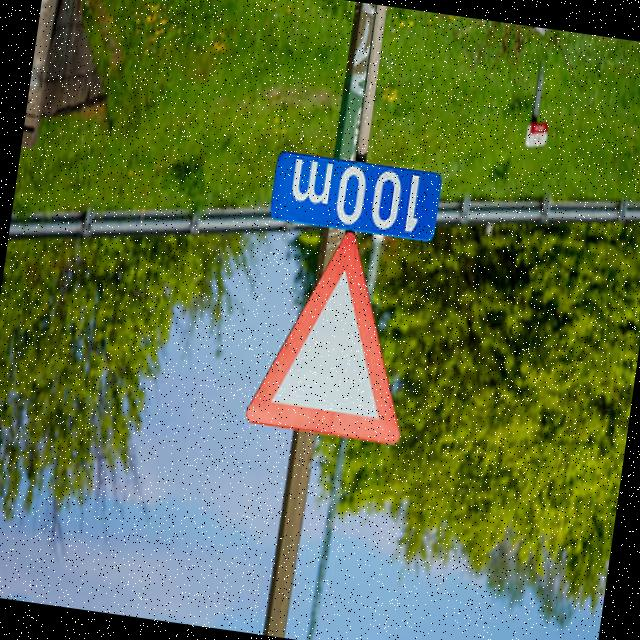give_way: (220, 217, 438, 474)
